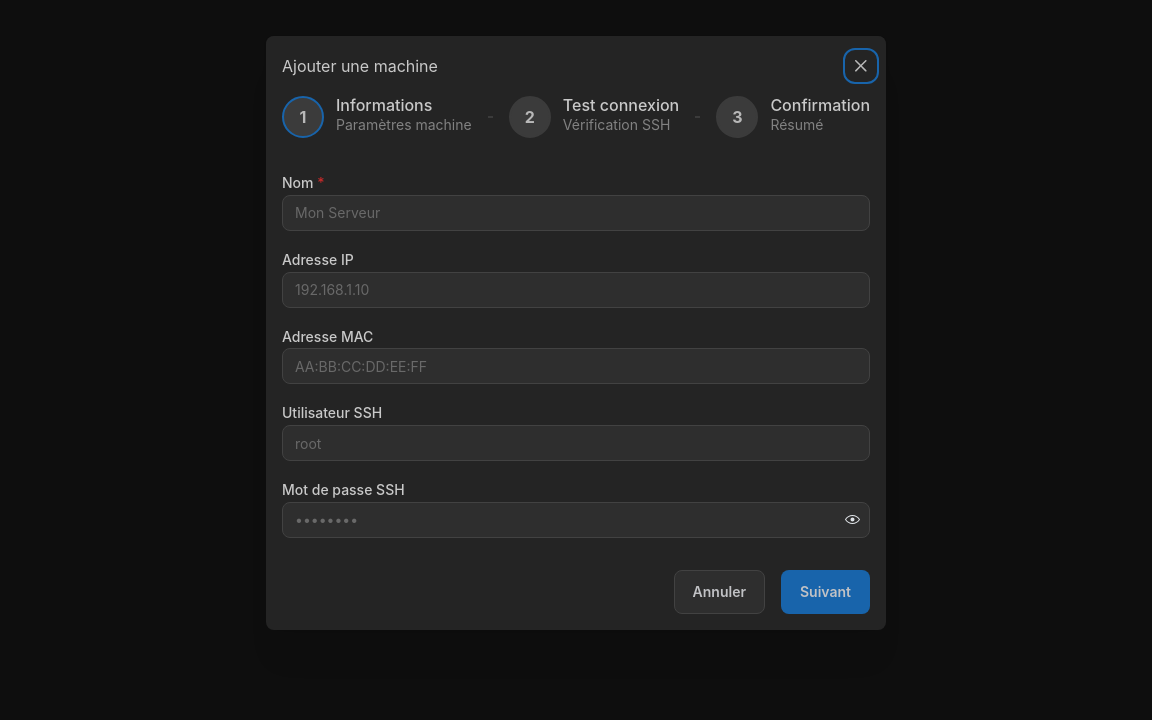
Scenario: AddMachineWizard › should validate MAC format
Type "Test" into the field with placeholder "Mon Serveur" at (576, 213), box [282,195,870,231]
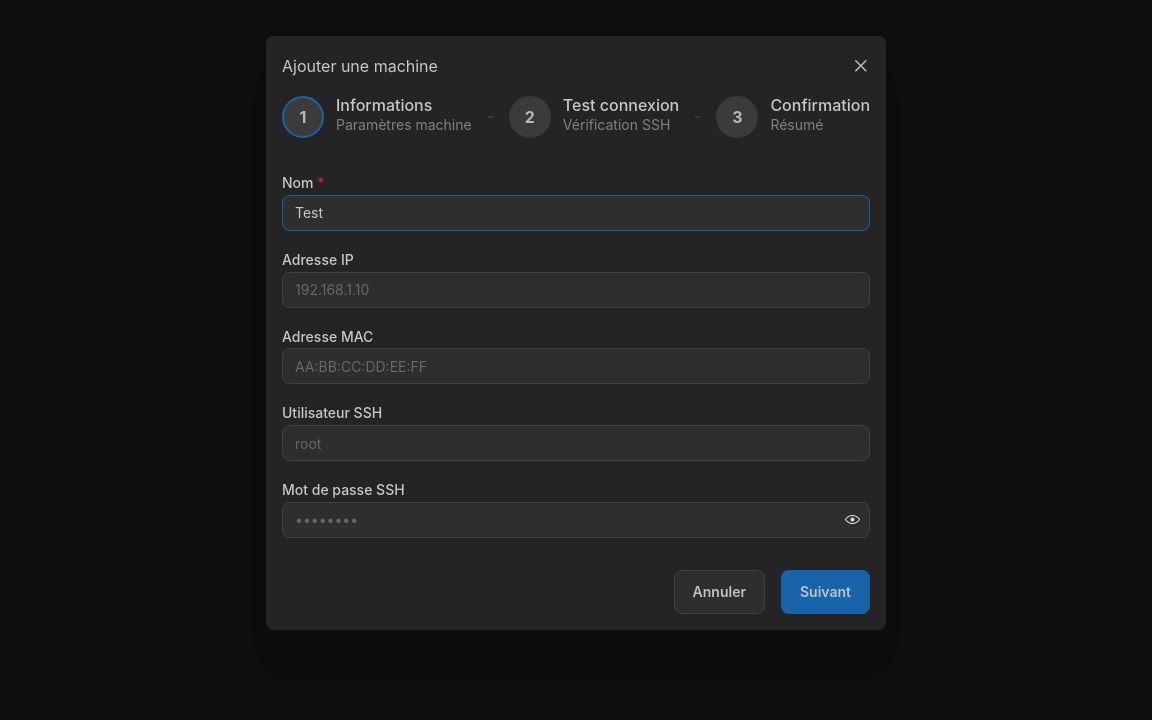
Type "bad-mac" into the field with placeholder "AA:BB:CC:DD:EE:FF" at (576, 366), box [282,348,870,384]
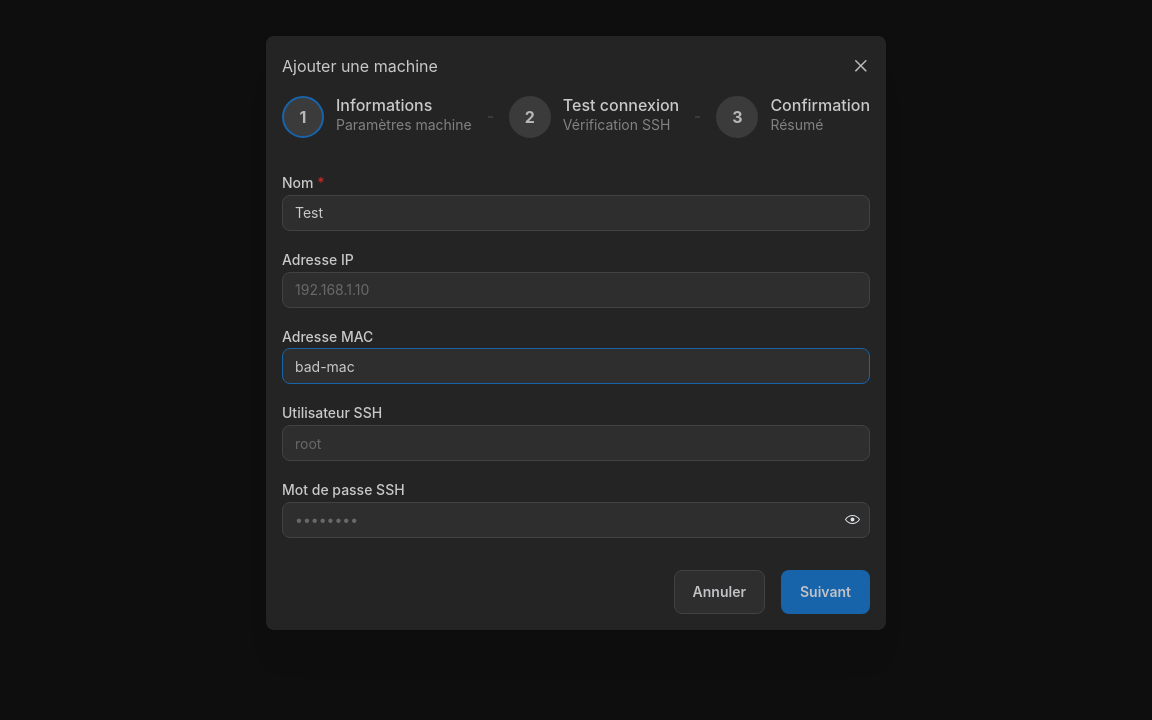
Click the button "Suivant" at (826, 592), box [781,570,870,614]
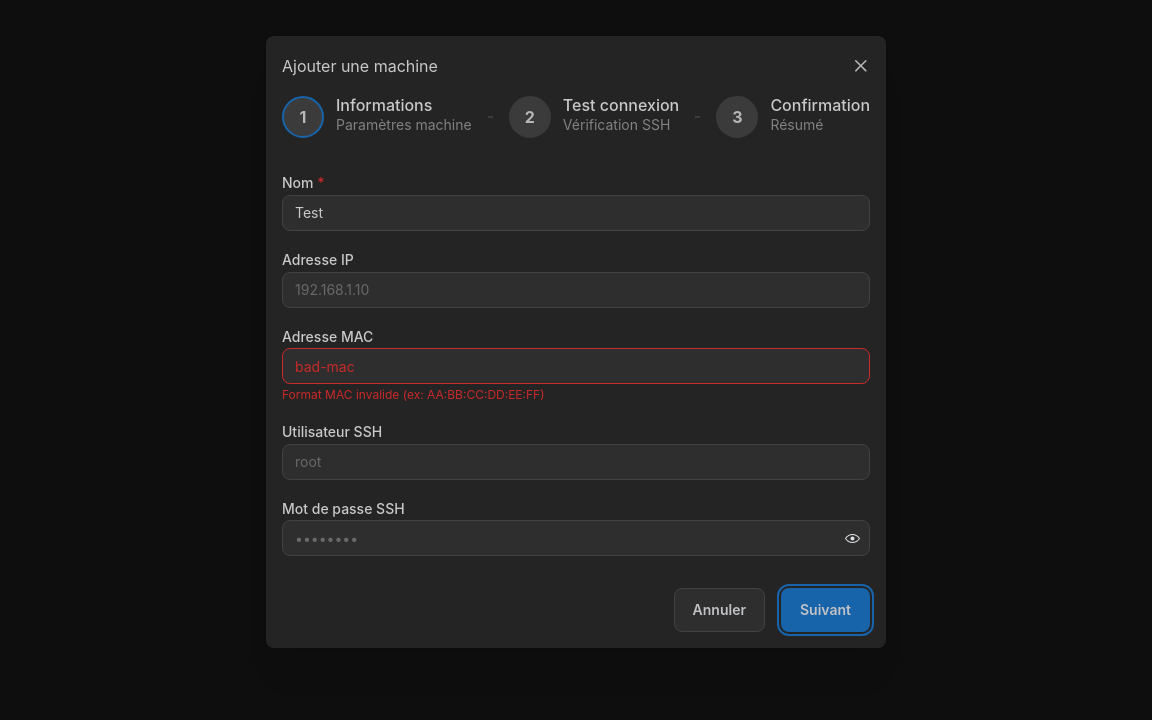
Expected: the text "Format MAC invalide (ex: AA:BB:CC:DD:EE:FF)" is shown, [282,387,545,402]
